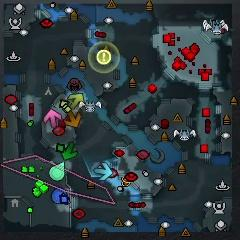Other: (97, 49, 112, 65)
p1: (52, 188, 71, 204)
p2: (49, 162, 65, 181)
x1: (44, 109, 62, 128)
x2: (68, 94, 84, 108)
x3: (94, 162, 112, 180)
x4: (61, 142, 78, 159)
x5: (64, 111, 81, 127)
